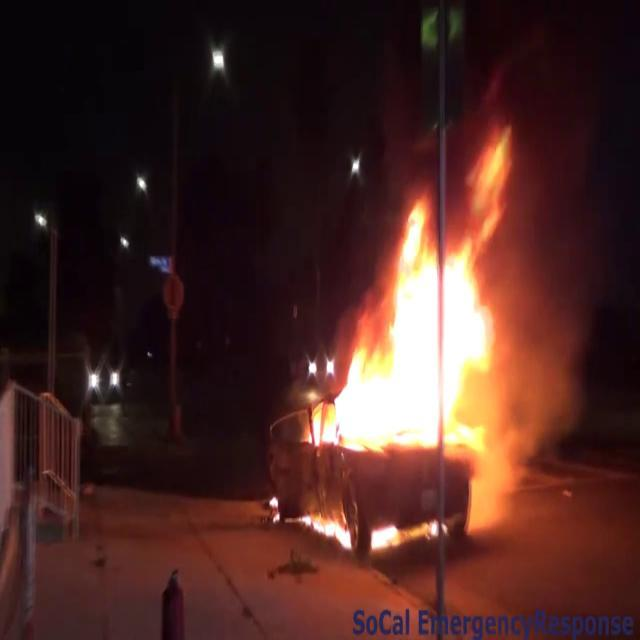Fire: (298, 117, 534, 457)
Smoke: (488, 3, 640, 460)
